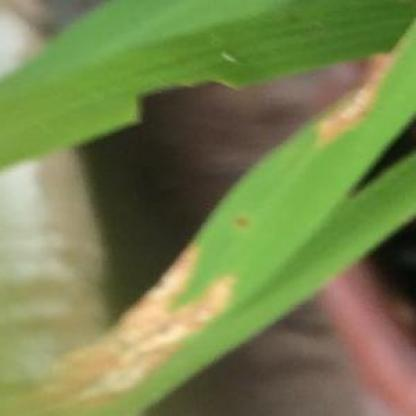Rice blast: (30, 235, 240, 416), (306, 51, 406, 159)
